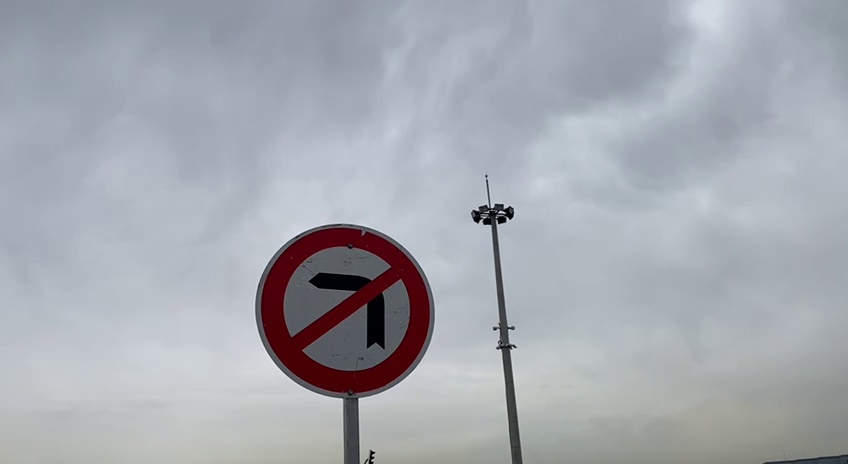noTurnLeft: (248, 216, 443, 407)
